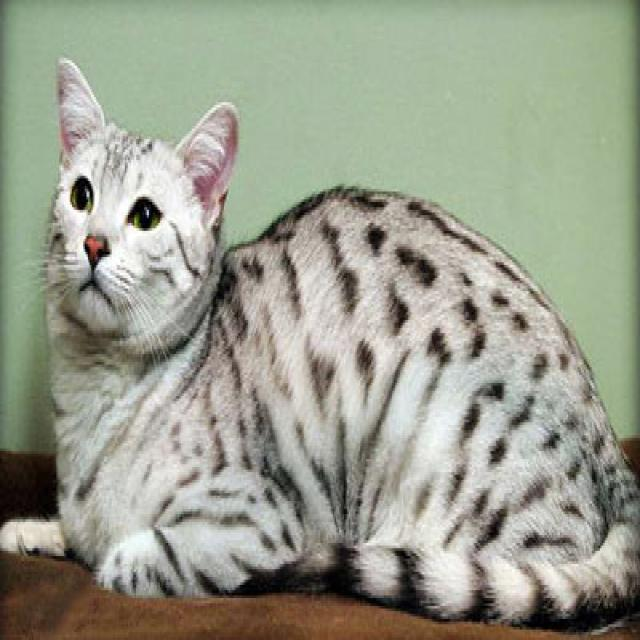Egyptian_Mau: (45, 55, 237, 331)
